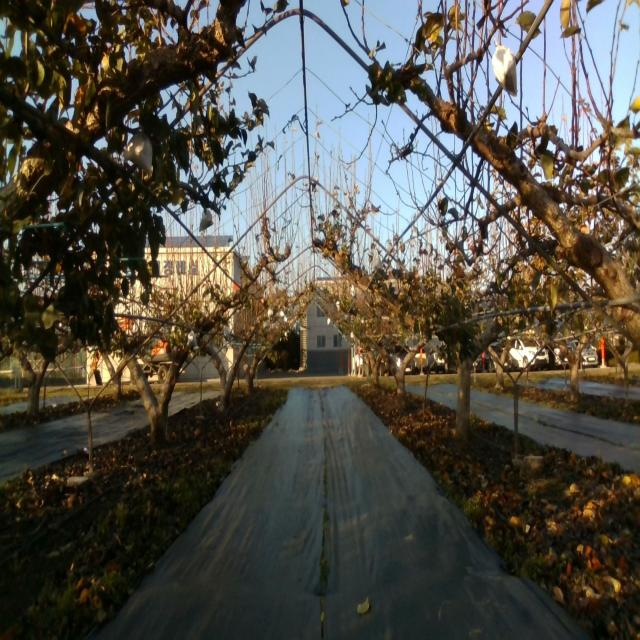pearbags: (492, 36, 518, 97), (122, 125, 152, 173), (199, 210, 213, 232), (187, 330, 198, 349)
